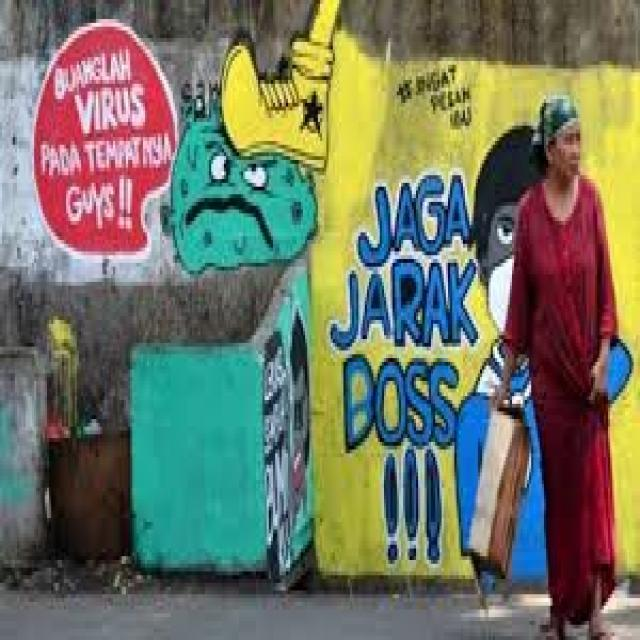-: (329, 120, 631, 580), (165, 0, 328, 259), (34, 22, 180, 260), (262, 310, 310, 569), (392, 64, 476, 125)
